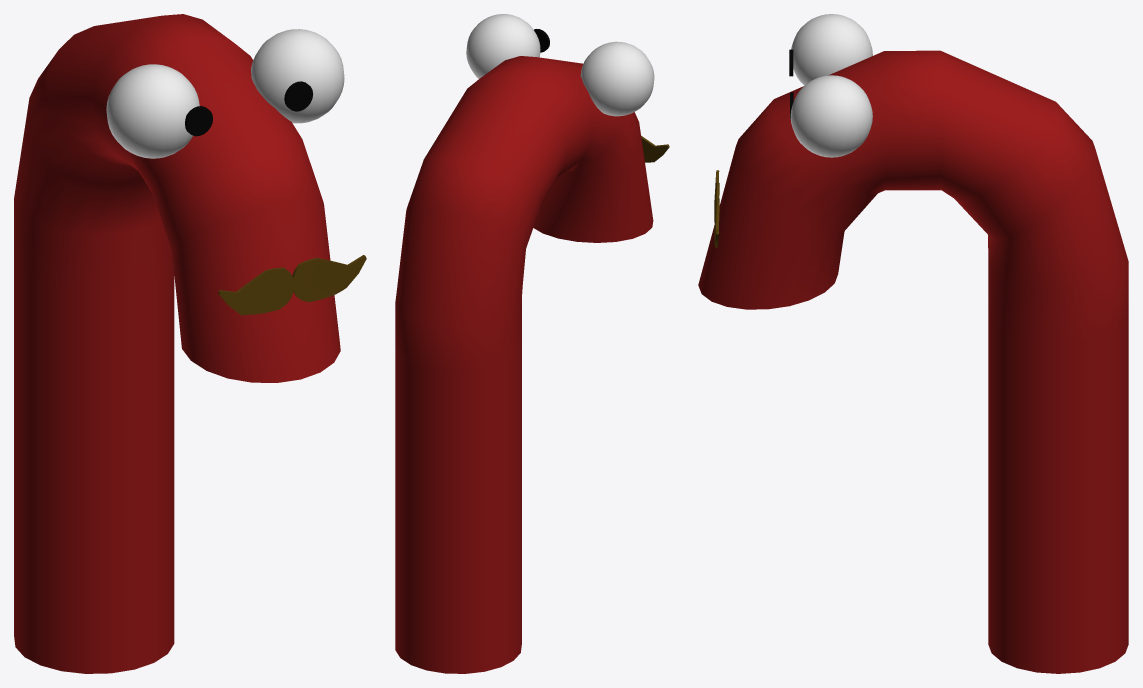
File: CandyCane.fbx
3 views of the same model, side by side, from view 1: azimuth 30°, elevation 25°; view 2: azimuth 150°, elevation 25°; view 3: azimuth 270°, elevation 25° (orthographic). The views are drawn at different scales.
Parts seen in each view (by area): view 1: pCylinder1, pSphere1, pSphere2, pCylinder5, pCylinder4, pCylinder3, pCylinder2; view 2: pCylinder1, pSphere1, pSphere2, pCylinder5; view 3: pCylinder1, pSphere2, pSphere1.
Part boxes in pixels (<box>): pCylinder1: <box>14,14,340,673</box>; pSphere1: <box>106,64,199,158</box>; pSphere2: <box>251,29,344,123</box>; pCylinder5: <box>218,267,294,315</box>; pCylinder4: <box>292,255,366,302</box>; pCylinder3: <box>284,81,312,111</box>; pCylinder2: <box>185,106,212,136</box>; pCylinder1: <box>395,56,653,673</box>; pSphere1: <box>580,41,654,116</box>; pSphere2: <box>466,14,540,78</box>; pCylinder5: <box>641,135,669,162</box>; pCylinder1: <box>698,50,1128,673</box>; pSphere2: <box>790,75,872,157</box>; pSphere1: <box>791,14,872,85</box>.
Size of the model in its own units: 3.61 by 10.46 by 6.84.
